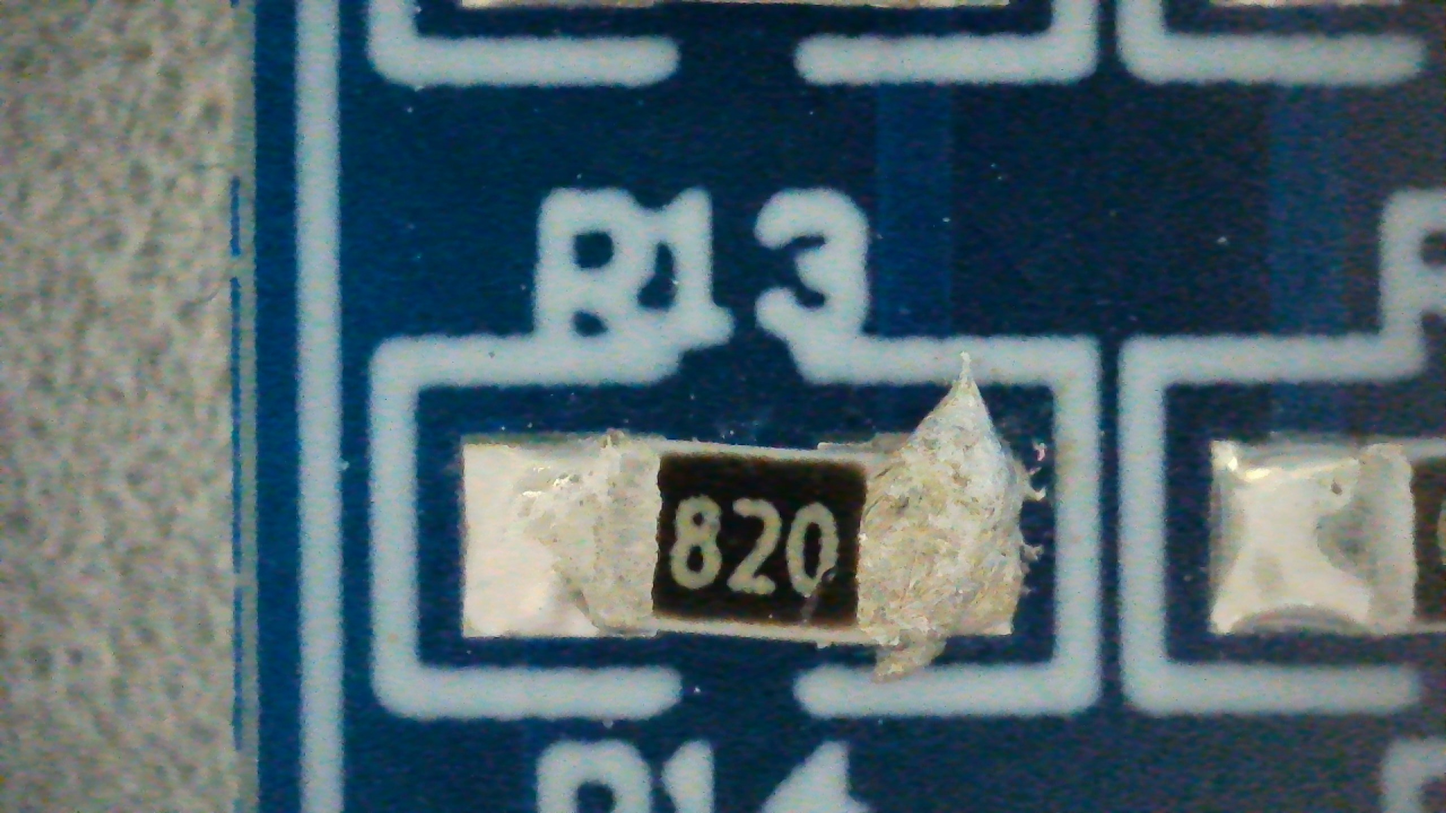NG: (464, 353, 1043, 683)
